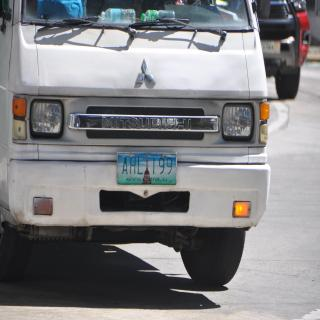license: (119, 153, 178, 185)
